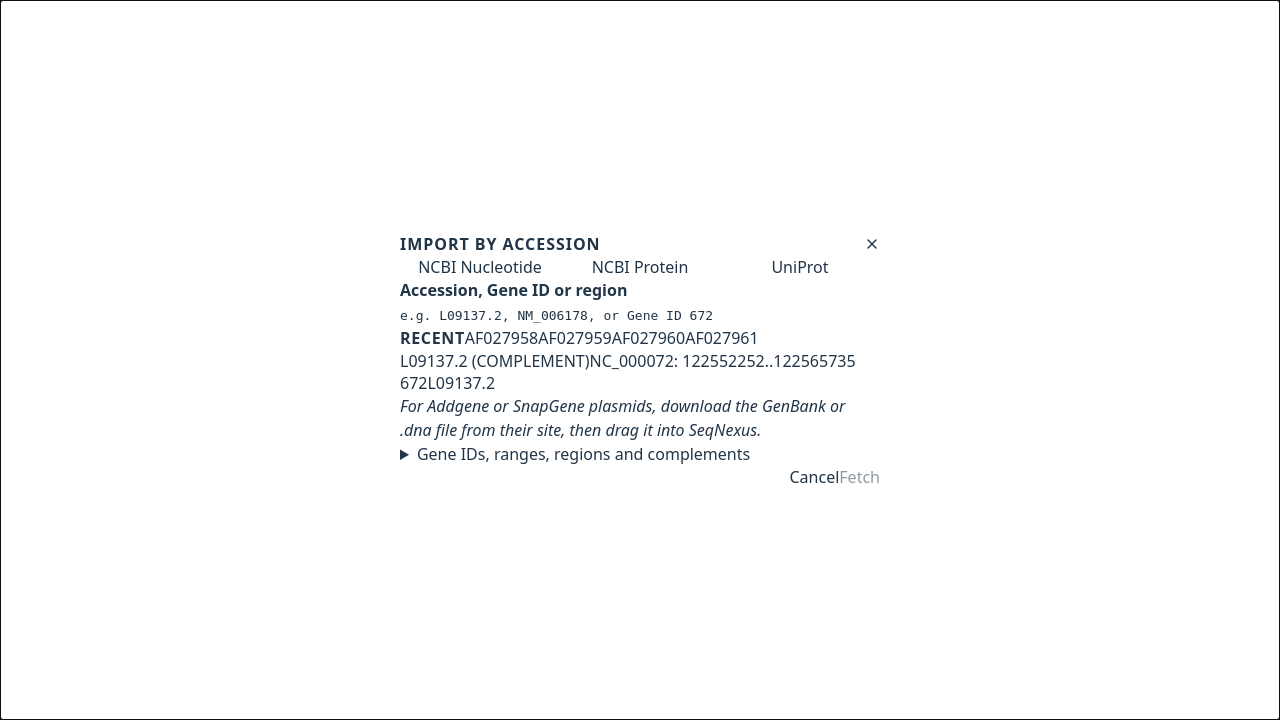
FetchDialog: Gene IDs, regions and complements › stops at a region past the end of the record before downloading anything
This screenshot has width=1280, height=720.
Type "L09137.2: 5000..6000" into the field with placeholder "e.g. L09137.2, NM_006178, or Gene ID 672".
click(640, 316); type("L09137.2: 5000..6000")  # box left=400, top=308, right=880, bottom=323
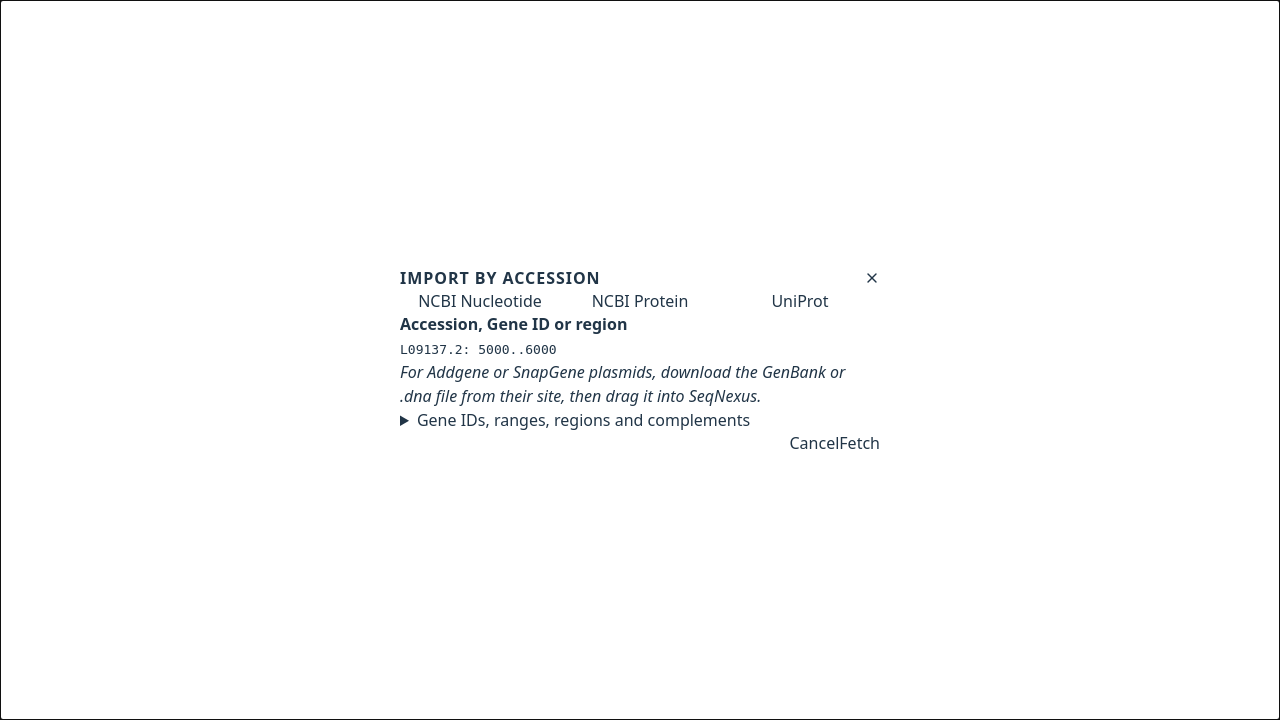
Click the button "Fetch".
click(860, 443)  # box left=839, top=432, right=880, bottom=454
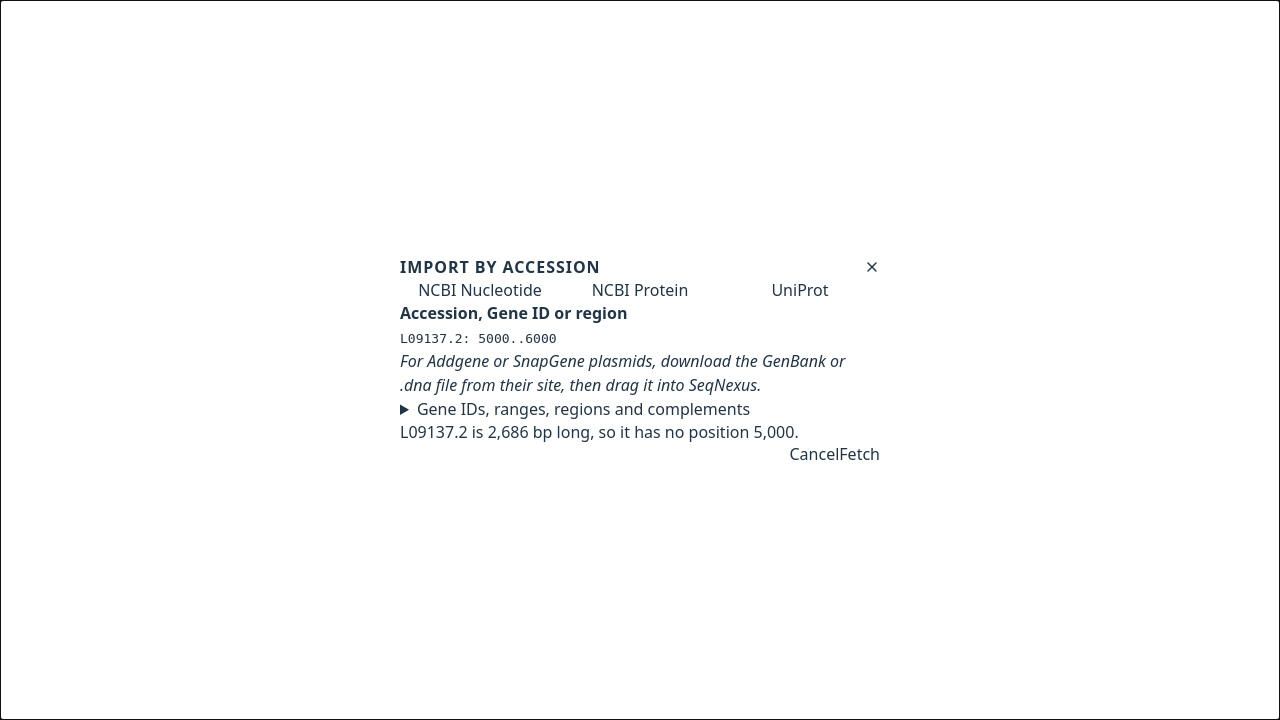
expect the message shows "is 2,686 bp long, so it has no position 5,000": met, box left=400, top=421, right=799, bottom=443
